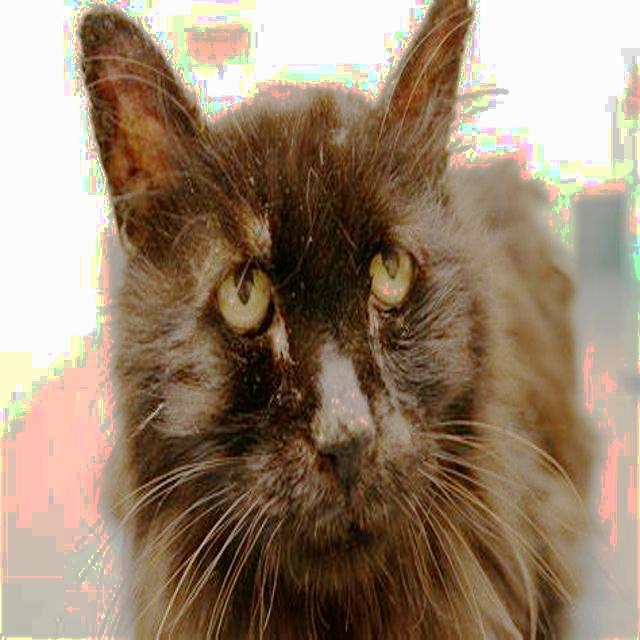ringworm: (88, 30, 178, 171)
